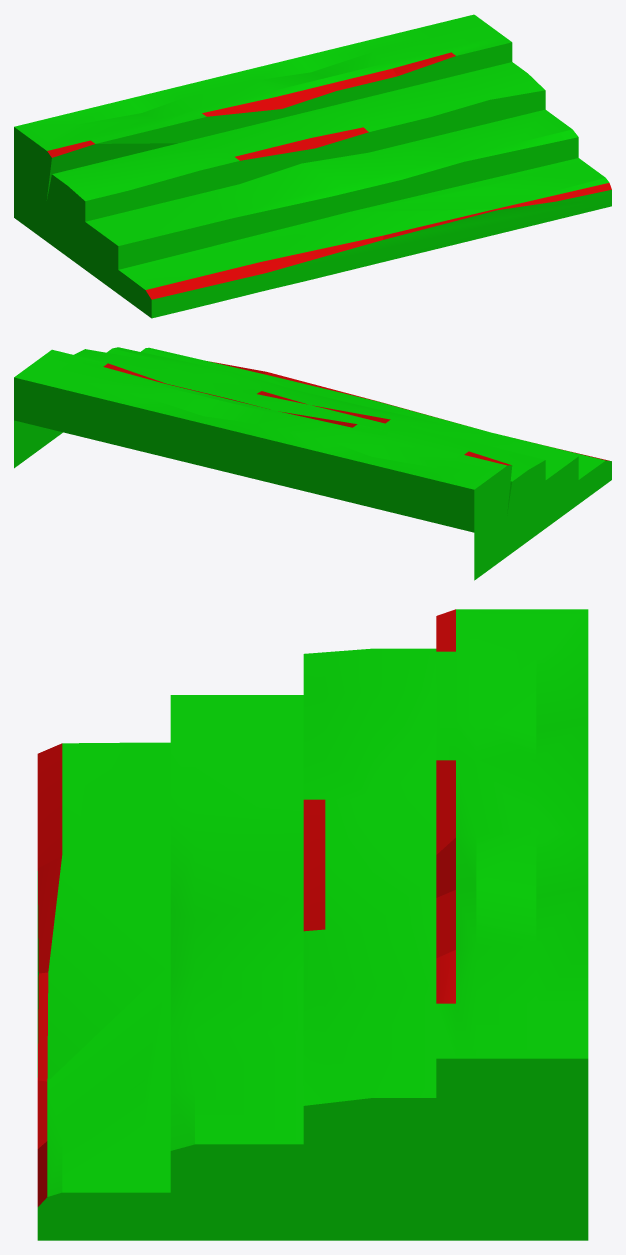
File: Stairs01_Nice.fbx
3 views of the same model, one above another, from view 1: azimuth 30°, elevation 25°; view 2: azimuth 150°, elevation 25°; view 3: azimuth 270°, elevation 25° (orthographic). The views are drawn at different scales.
Visible parts, largest first — view 1: Stairs004_Test1; view 2: Stairs004_Test1; view 3: Stairs004_Test1.
Boxes of the visible parts, x1,y1,x2,y2 form: Stairs004_Test1: [14, 14, 611, 318]; Stairs004_Test1: [14, 347, 611, 580]; Stairs004_Test1: [37, 609, 588, 1240].
Bounding box in the file's own units: 200 × 37.87 × 104.
